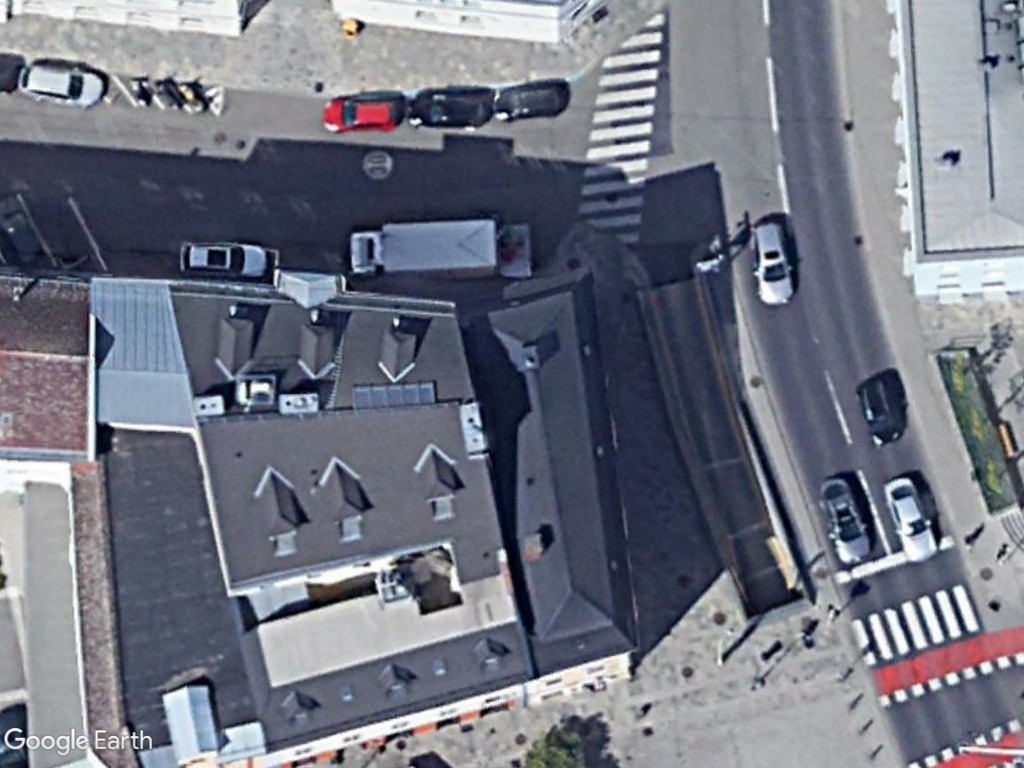car: (879, 470, 940, 567), (818, 470, 876, 569), (11, 55, 112, 109), (747, 213, 800, 310), (173, 236, 272, 283), (315, 90, 410, 137), (403, 89, 498, 134), (854, 372, 908, 449), (489, 77, 574, 125)
truck: (343, 210, 506, 286)
